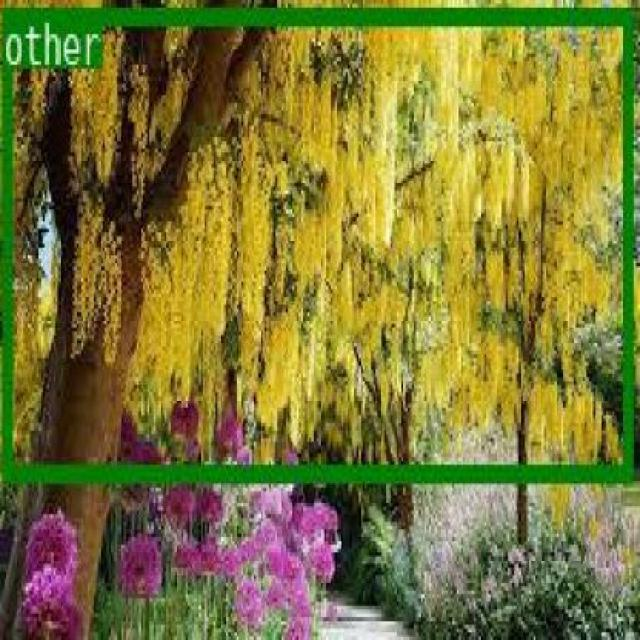Smoke: (2, 4, 632, 480)
